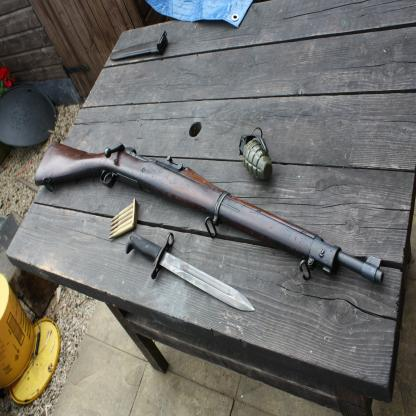Grenade: (238, 126, 274, 186)
Gun: (33, 138, 386, 289)
Knife: (126, 232, 256, 314)
